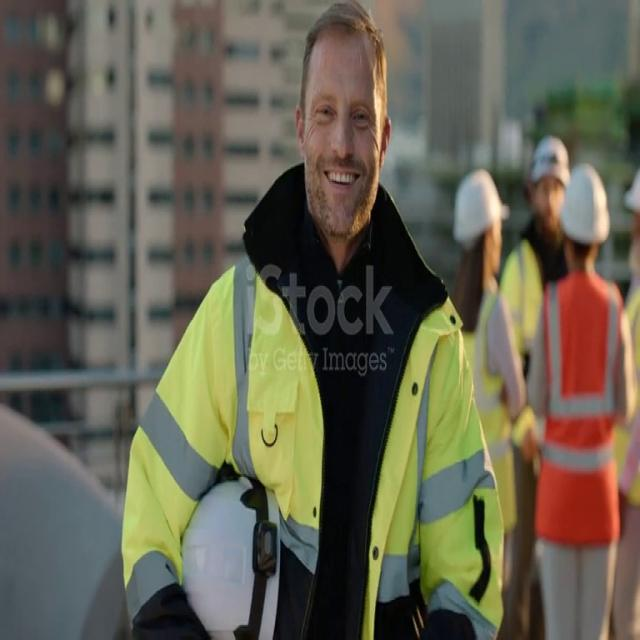capacete: (171, 473, 296, 640), (554, 158, 614, 245), (452, 170, 512, 247), (522, 123, 572, 195), (617, 129, 640, 225)
